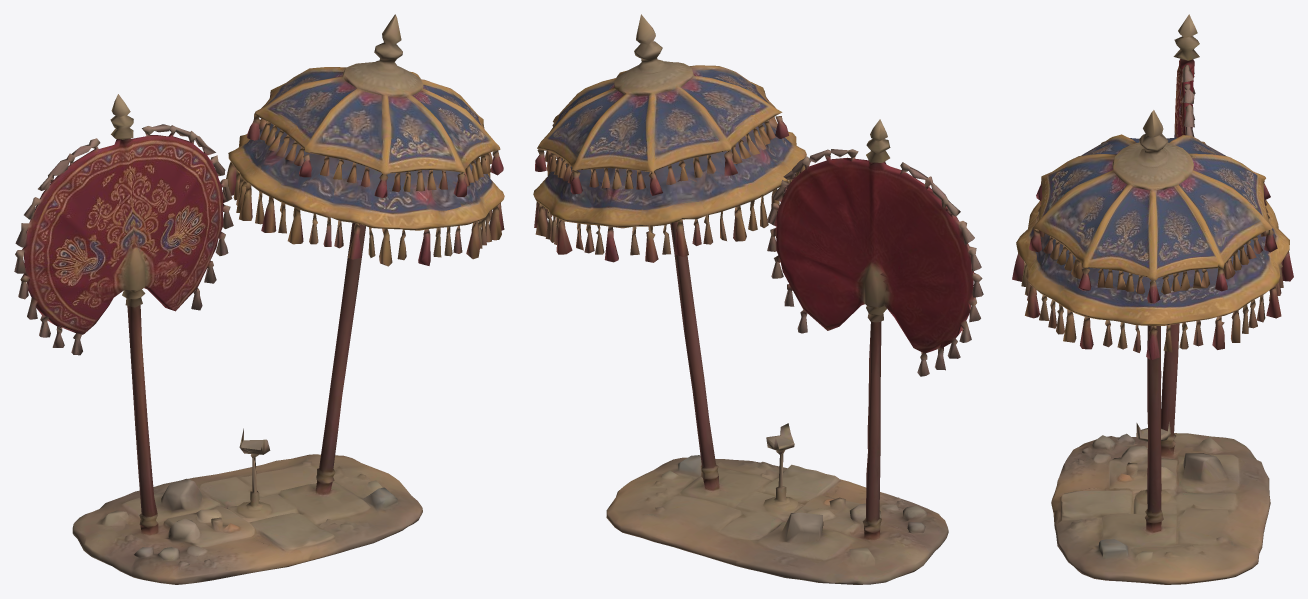
The model's file is emir_palace_umbrella.glb.
3 renders of one model, left to right at view 1: azimuth 30°, elevation 25°; view 2: azimuth 150°, elevation 25°; view 3: azimuth 270°, elevation 25°, orthographic.
Visible parts, largest first — view 1: tripo_node_ca092f87-9a53-44af-8b02-6ceddcc95d50; view 2: tripo_node_ca092f87-9a53-44af-8b02-6ceddcc95d50; view 3: tripo_node_ca092f87-9a53-44af-8b02-6ceddcc95d50.
Part boxes in pixels (left/top/right/bottom): tripo_node_ca092f87-9a53-44af-8b02-6ceddcc95d50: left=14, top=14, right=504, bottom=584; tripo_node_ca092f87-9a53-44af-8b02-6ceddcc95d50: left=533, top=14, right=983, bottom=584; tripo_node_ca092f87-9a53-44af-8b02-6ceddcc95d50: left=1012, top=14, right=1293, bottom=584.
Bounding box in the file's own units: 0.9946 × 1 × 0.5407.
Materials: 1 (1 with a texture image).
